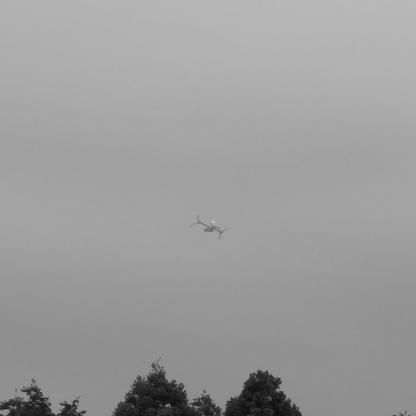V22: (189, 214, 230, 241)
